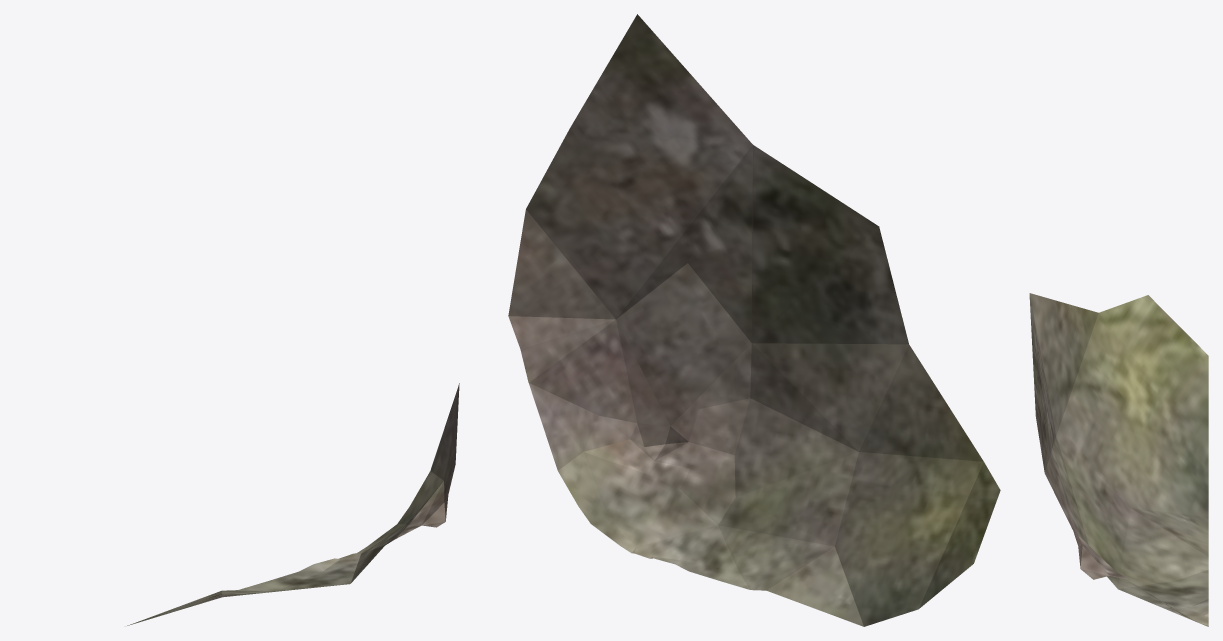
The picture shows the model from 3 angles, left to right: view 1: azimuth 30°, elevation 25°; view 2: azimuth 150°, elevation 25°; view 3: azimuth 270°, elevation 25°; orthographic projection. The views are drawn at different scales.
Size of the model in its own units: 7.46 by 8.53 by 2.21.
Materials: 1 (1 with a texture image).
